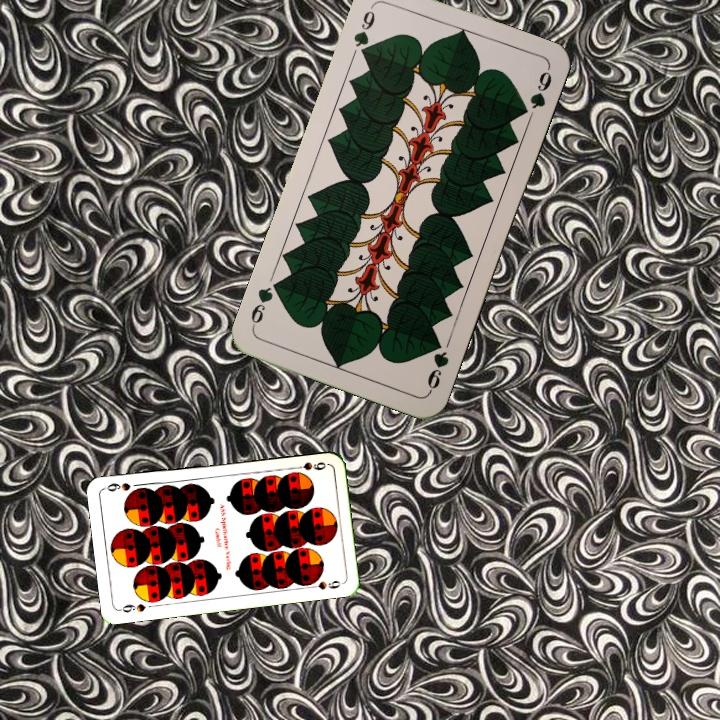G9: (423, 335, 452, 395), (349, 1, 378, 61)
S9: (288, 458, 328, 473), (115, 600, 148, 615)
